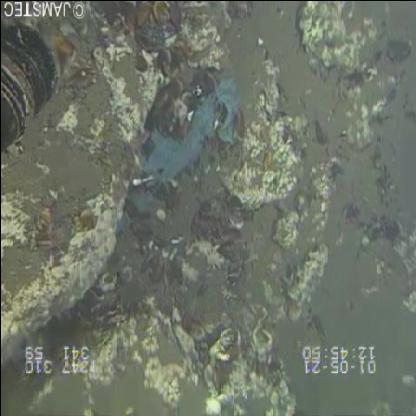Rov: (2, 15, 61, 157)
Rác: (128, 68, 244, 218)
